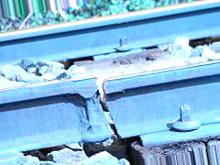tracks_fault: (54, 53, 164, 151)
